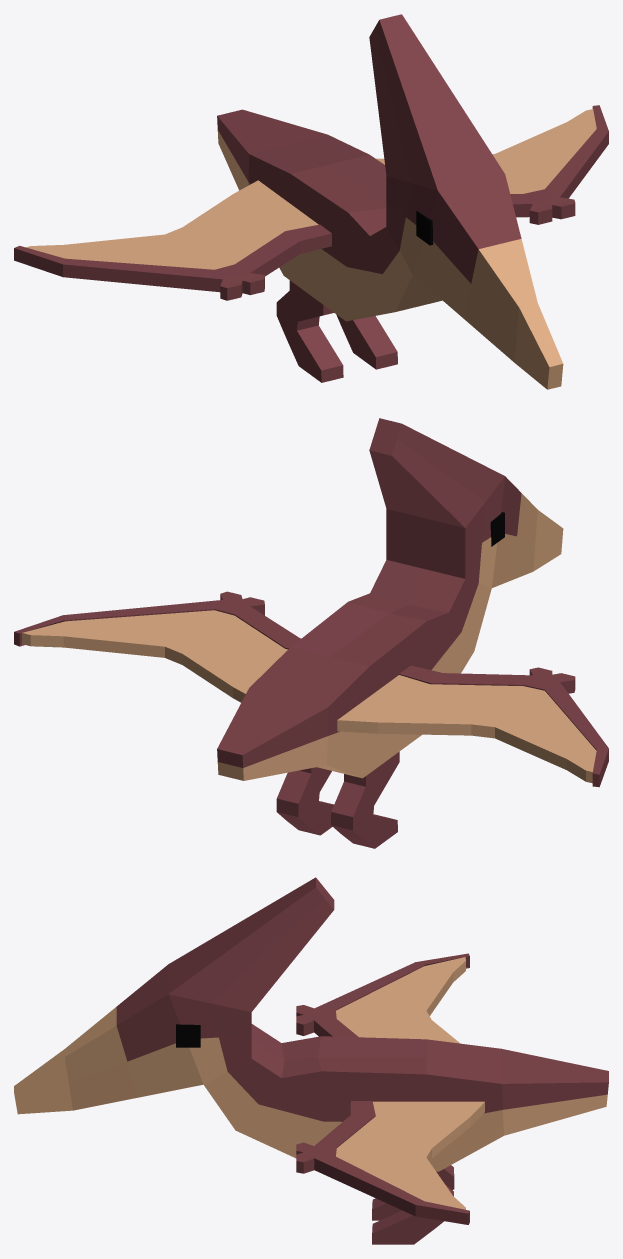
File: Pteranodon.fbx
3 views of the same model, one above another, from view 1: azimuth 30°, elevation 25°; view 2: azimuth 150°, elevation 25°; view 3: azimuth 270°, elevation 25° (orthographic). The views are drawn at different scales.
Visible parts, largest first — view 1: Pteranodon; view 2: Pteranodon; view 3: Pteranodon.
Part boxes in pixels (x1,y1,x2,y2): Pteranodon: (14, 14, 608, 389); Pteranodon: (14, 418, 608, 848); Pteranodon: (14, 877, 608, 1244).
Bounding box in the file's own units: 267 × 165 × 258.
